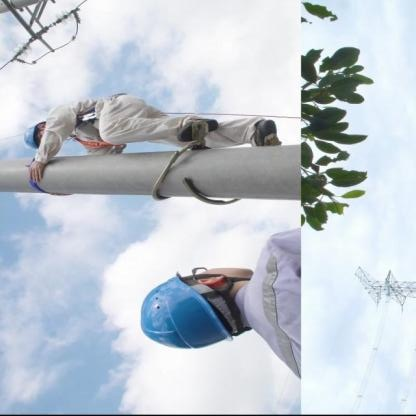blue: (134, 265, 233, 354), (21, 118, 39, 150)
